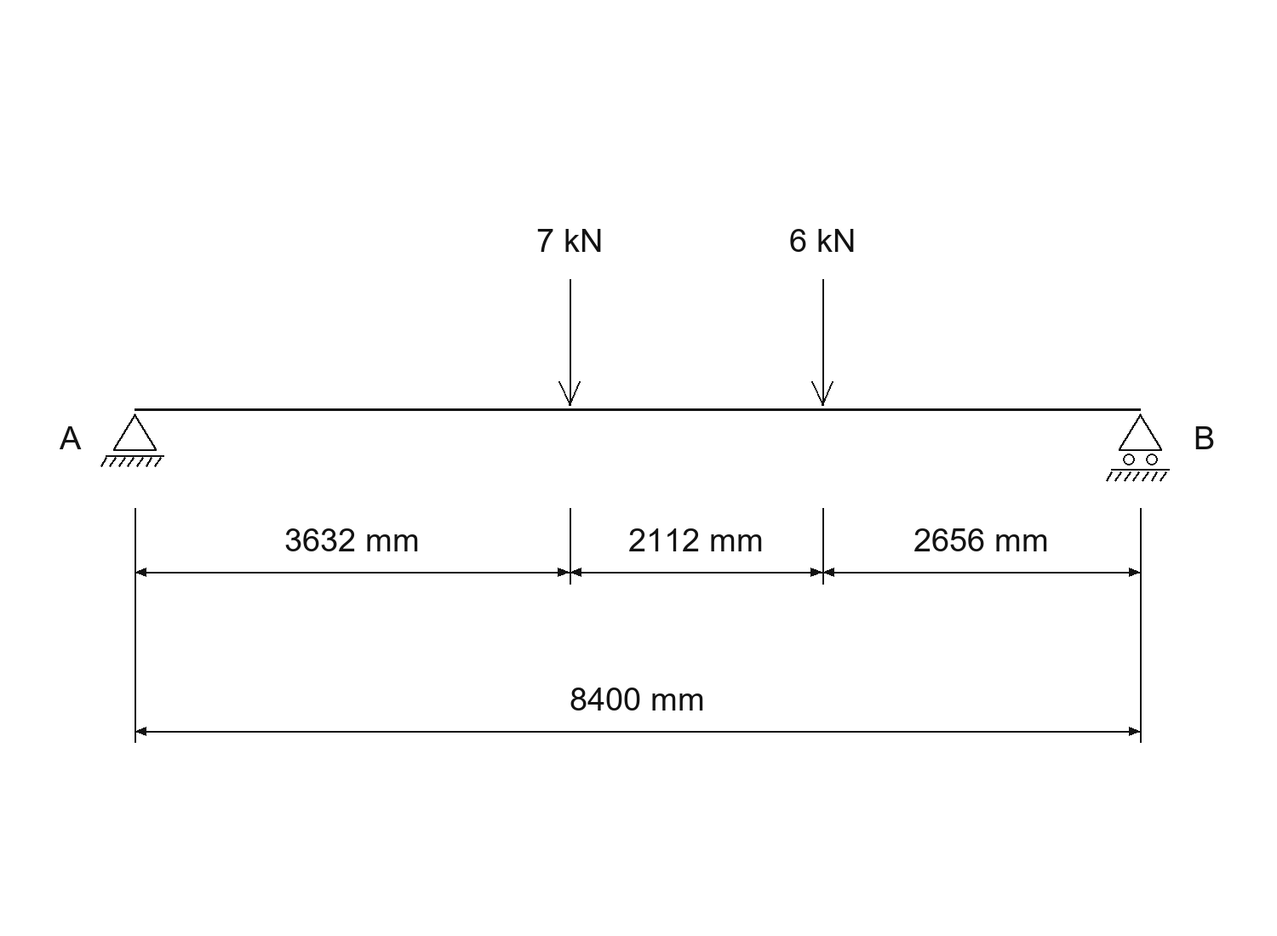pin_support: (100, 414, 164, 467)
point_load: (558, 279, 581, 406), (811, 279, 833, 406)
roller_support: (1106, 414, 1170, 482)
